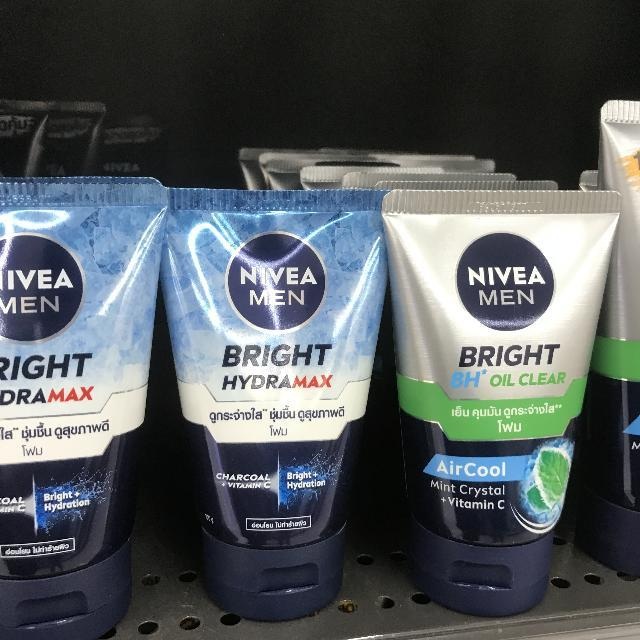Squeeze Tube: (381, 180, 619, 617), (170, 190, 389, 624), (0, 167, 157, 639)
